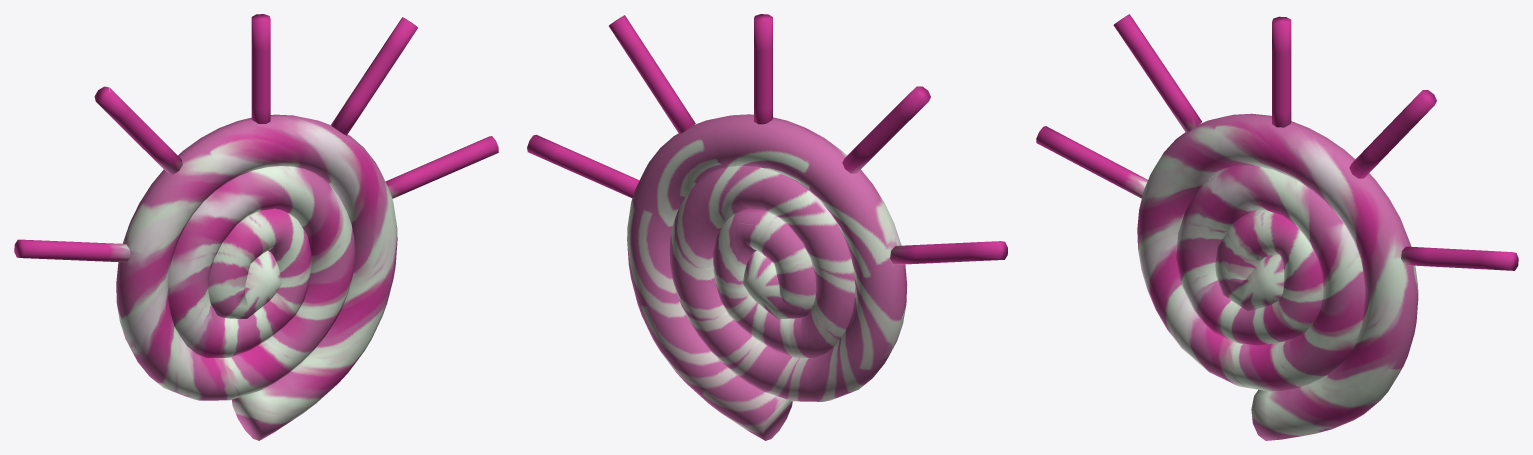
File: ship1.fbx
3 views of the same model, side by side, from view 1: azimuth 30°, elevation 25°; view 2: azimuth 150°, elevation 25°; view 3: azimuth 330°, elevation 25° (orthographic).
Visible parts, largest first — view 1: ship_015; view 2: ship_015; view 3: ship_015.
Part boxes in pixels (box(x1,y1,x2,y2)): ship_015: box(14, 14, 498, 440); ship_015: box(527, 14, 1007, 440); ship_015: box(1036, 14, 1518, 440).
Size of the model in its own units: 212 by 178 by 21.49.
